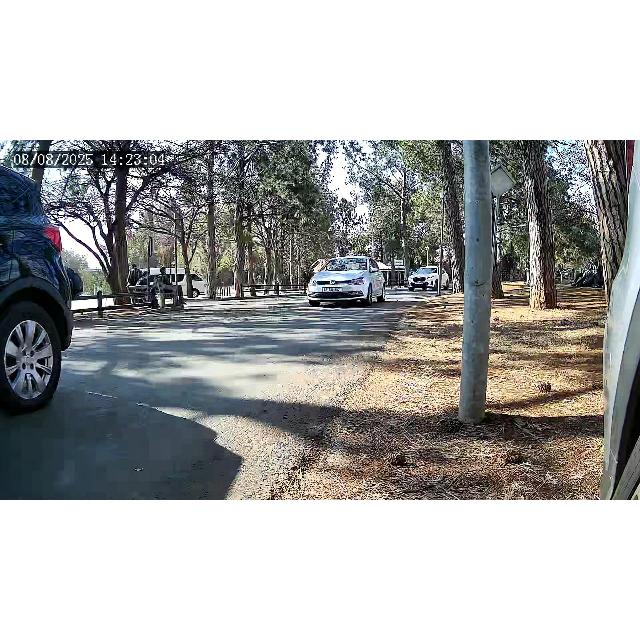car: (0, 160, 70, 408), (306, 255, 386, 308), (407, 266, 439, 292)
plate: (321, 286, 343, 294)
